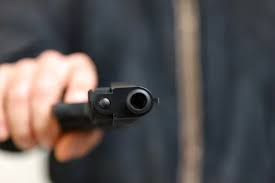gun: (1, 50, 161, 163)
